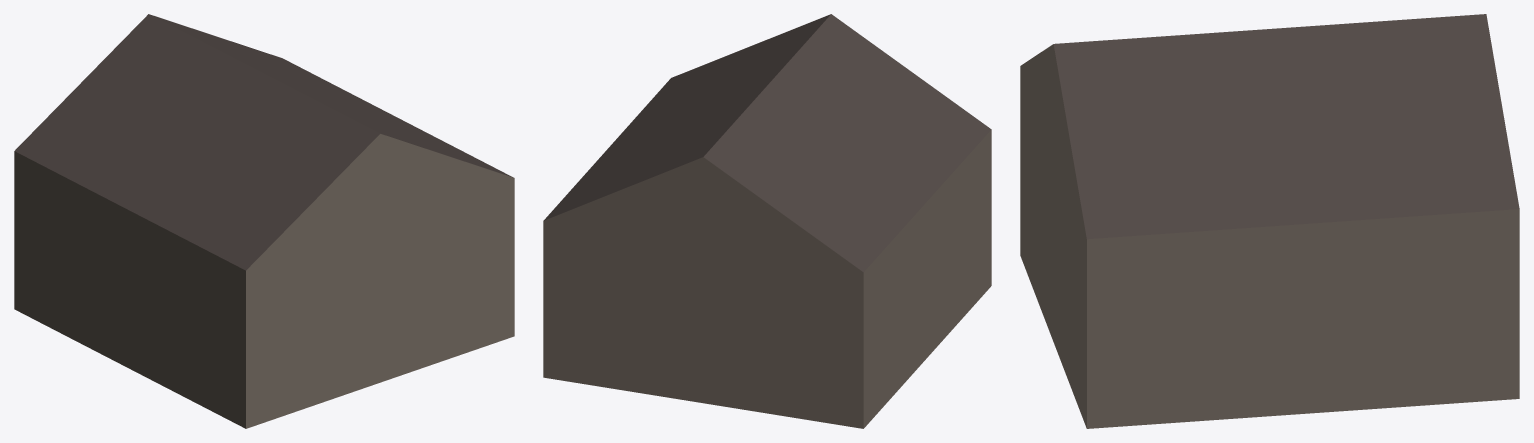
3 views of the same model, side by side, from view 1: azimuth 30°, elevation 25°; view 2: azimuth 150°, elevation 25°; view 3: azimuth 270°, elevation 25° (orthographic). The views are drawn at different scales.
Visible parts, largest first — view 1: HP-w859457339; view 2: HP-w859457339; view 3: HP-w859457339.
Boxes of the visible parts, box(x1,y1,x2,y2) form: HP-w859457339: box(14, 14, 514, 428); HP-w859457339: box(543, 14, 991, 428); HP-w859457339: box(1020, 14, 1519, 428).
Bounding box in the file's own units: 13.79 × 9.44 × 14.31.
